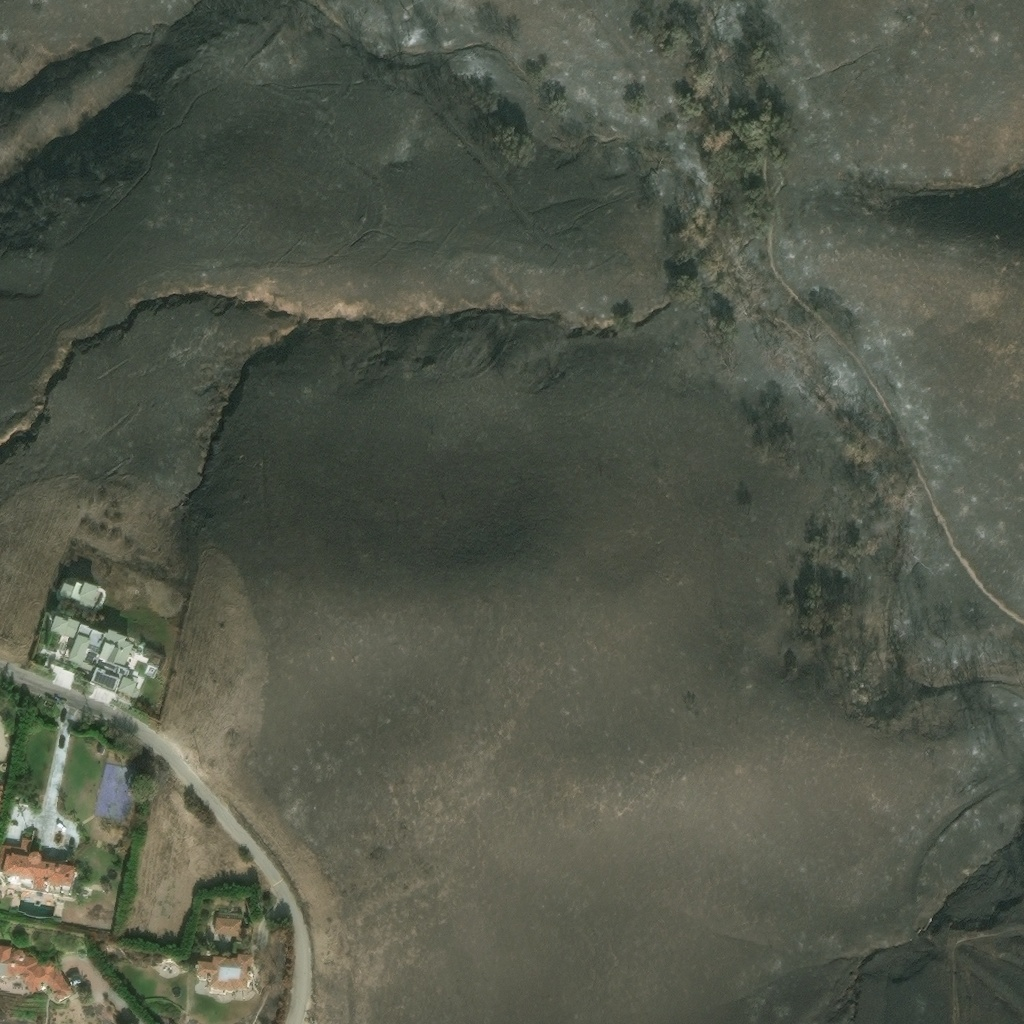0 no-damage: (48, 611, 140, 696), (0, 837, 77, 889), (195, 952, 251, 987), (58, 578, 101, 607), (213, 915, 239, 934)
